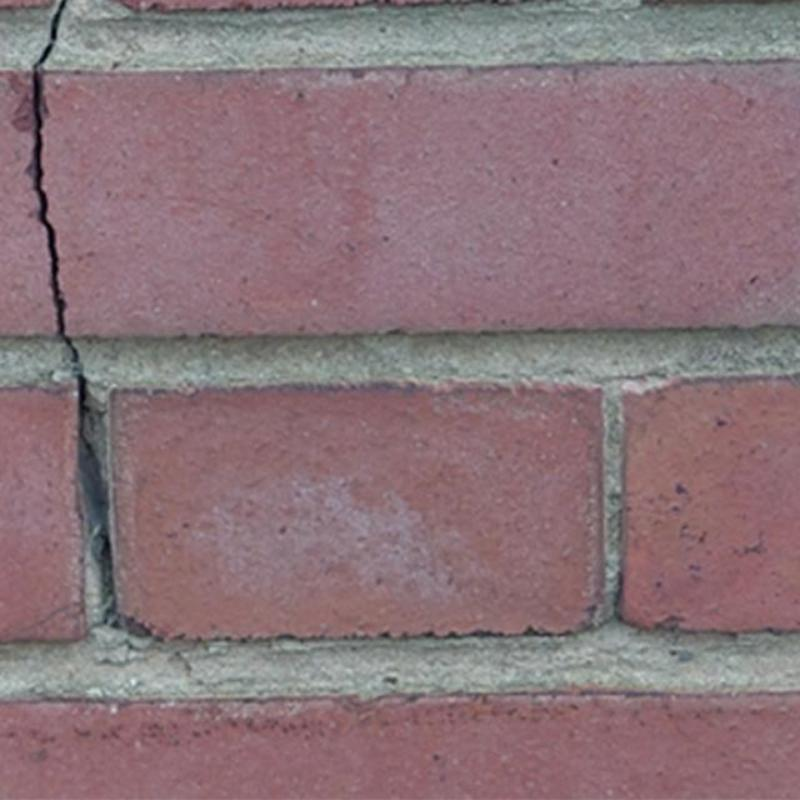pothole: (33, 0, 88, 436), (80, 426, 151, 640)
